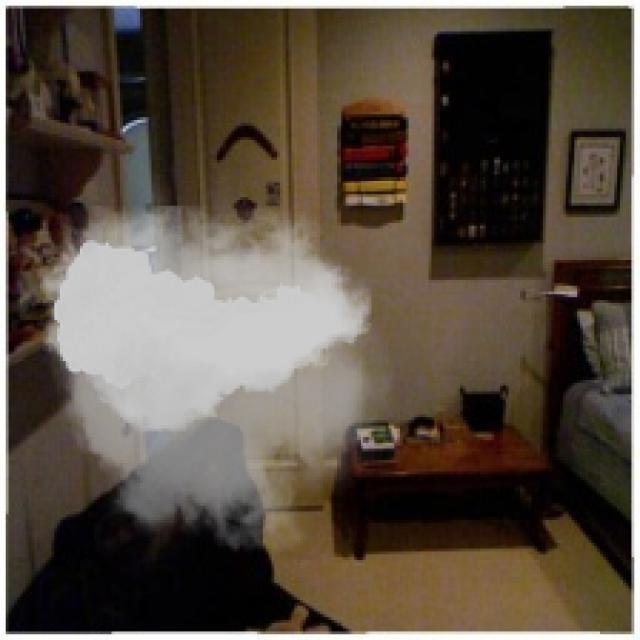Smoke: (28, 175, 394, 574)
